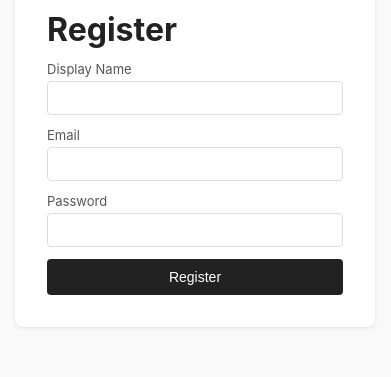
Scenario: RegisterPage › on failure: displays error message
In the field labelled "Display Name": (195, 98) [47,81,343,115], type "User"
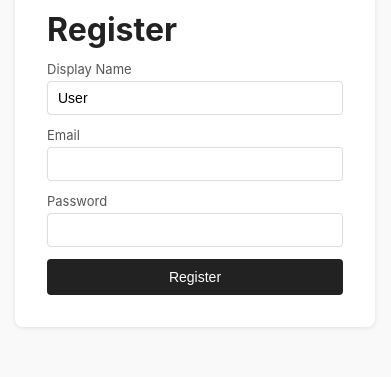
In the field labelled "Email": (195, 164) [47,147,343,181], type "taken@test.com"
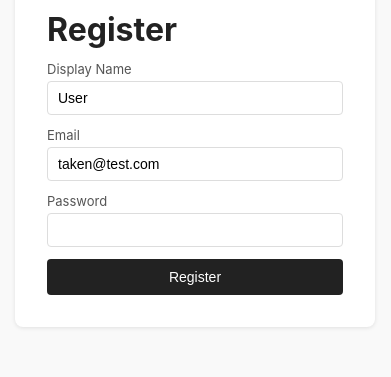
In the password field labelled "Password": (195, 230) [47,213,343,247], type "password123"
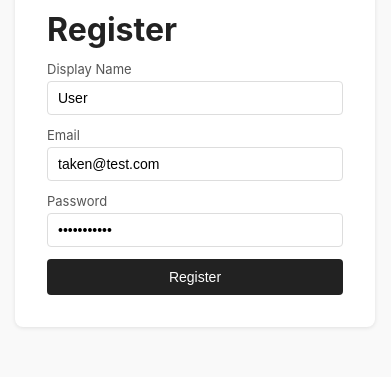
Click the button "Register": (195, 277) [47,259,343,295]
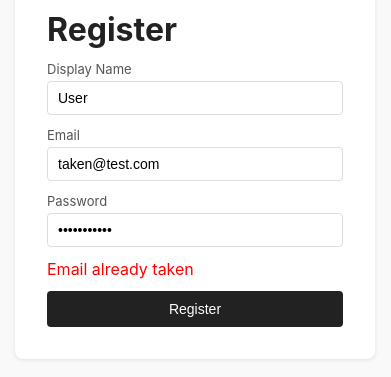
expect the text "Email already taken" is shown: met, box [47,259,194,279]
